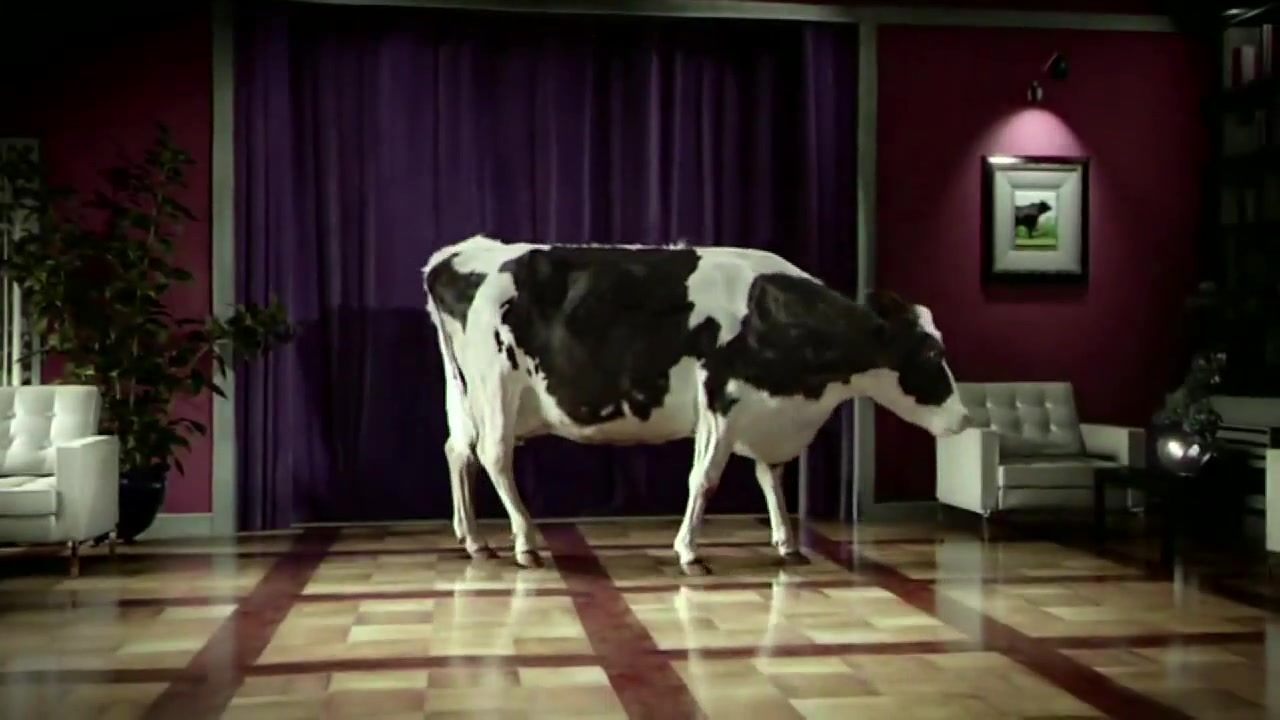cow: (415, 227, 971, 582)
